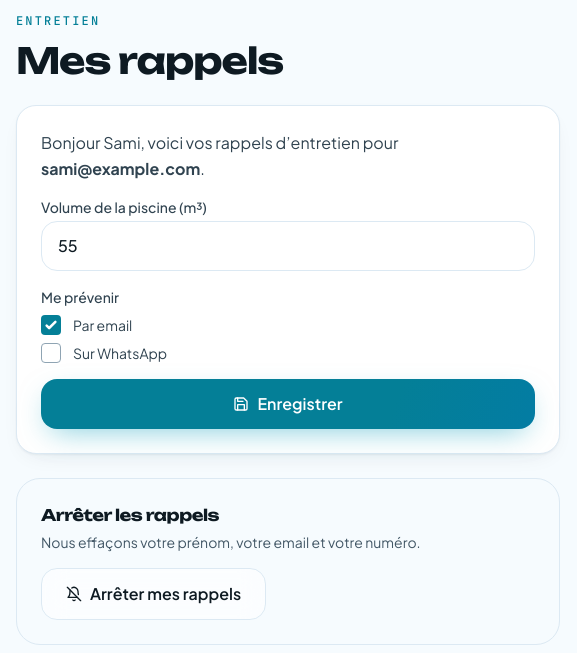
it: my reminders page › changes the volume and adds WhatsApp
Replace the text in the number field labelled "Volume de la piscine (m³)" with "60" at (288, 246), box [41,221,535,271]
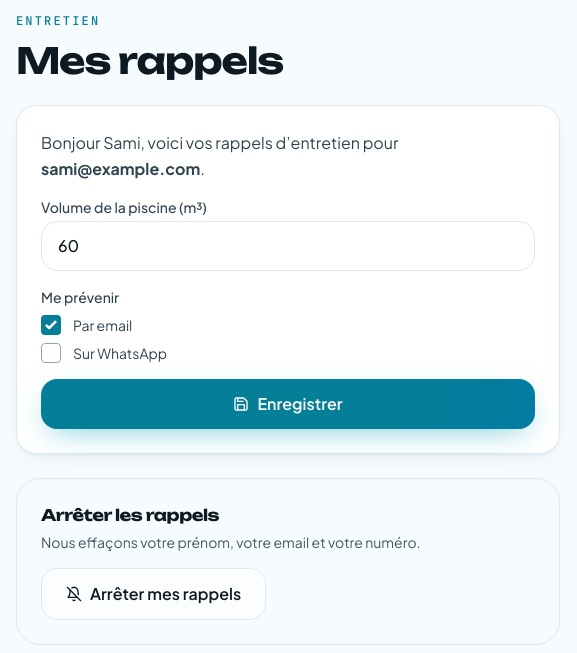
Click the checkbox labelled "Sur WhatsApp" at (51, 353), box [41,343,61,363]
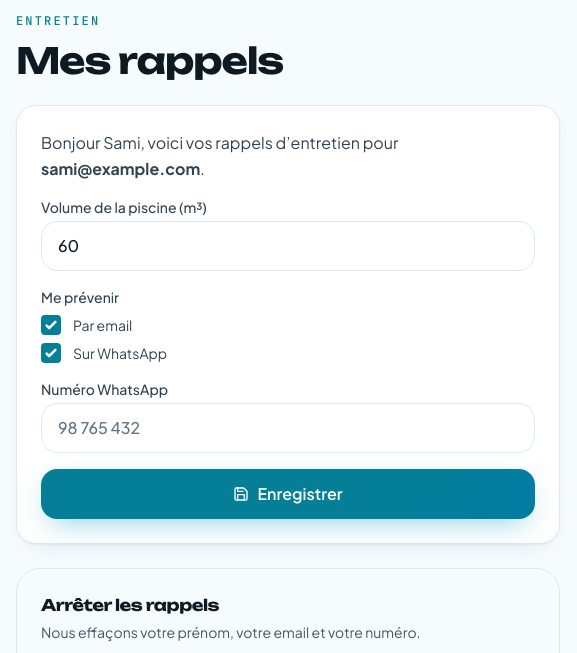
Type "98765432" into the field labelled "Numéro WhatsApp" at (288, 428), box [41,403,535,453]
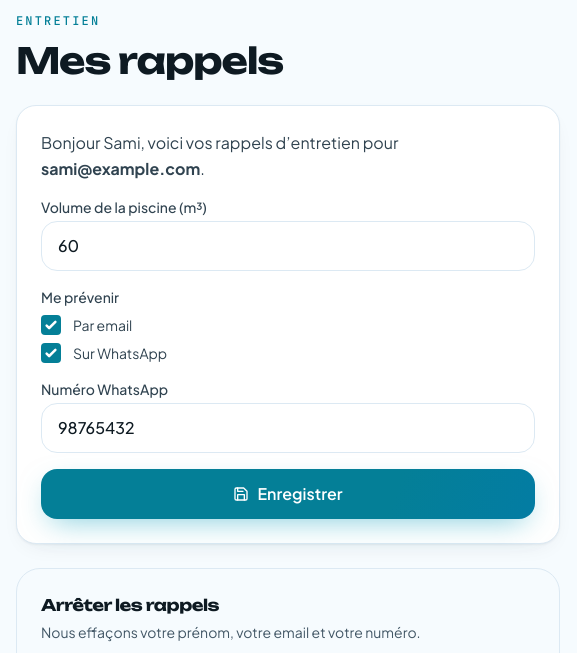
Click the button "Enregistrer" at (288, 494), box [41,469,535,519]
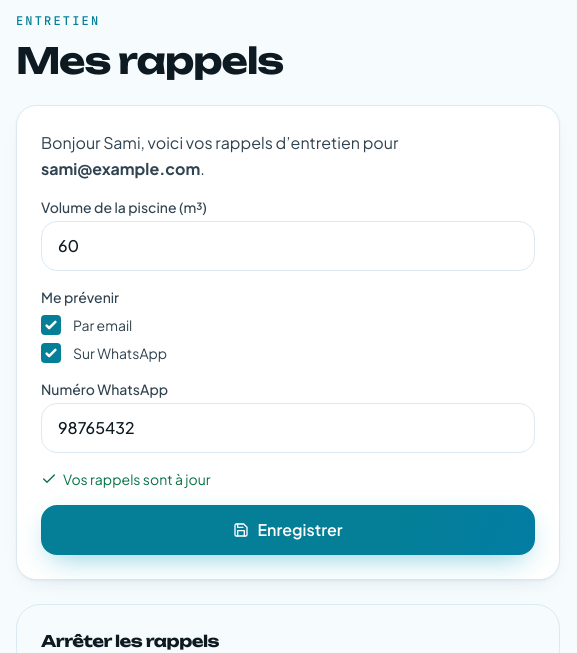
Expected: the message reads "Vos rappels sont à jour", [63,470,210,488]
